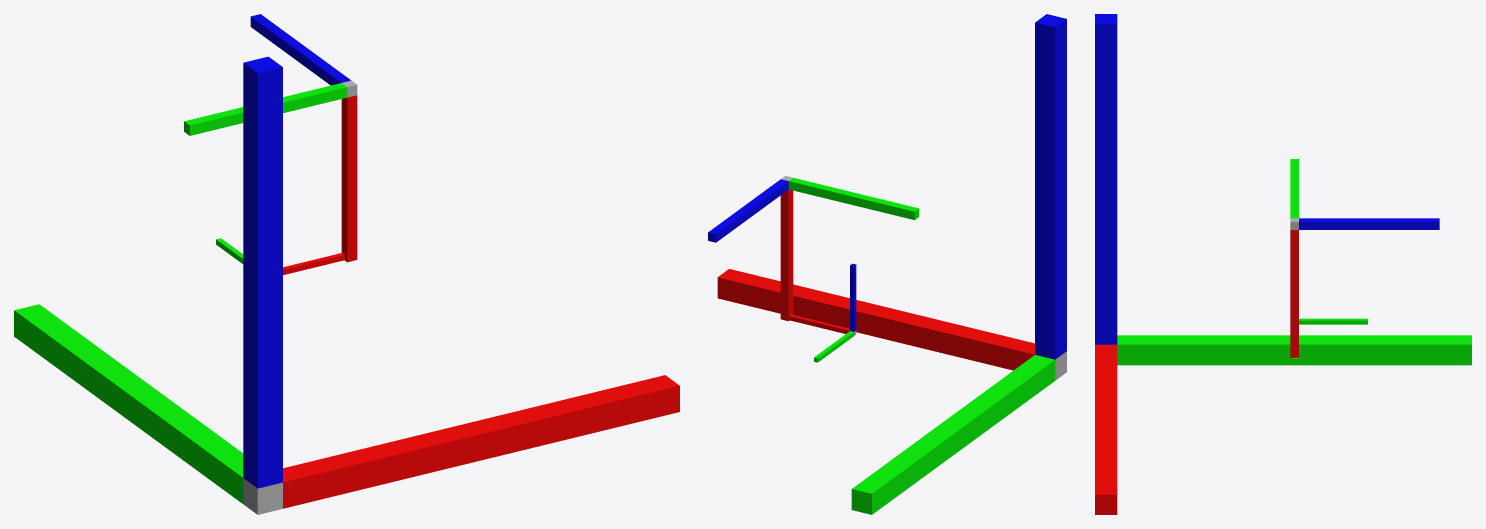
Rendered from simple_003_Parenting_00.dae.
3 views of the same model, side by side, from view 1: azimuth 30°, elevation 25°; view 2: azimuth 150°, elevation 25°; view 3: azimuth 270°, elevation 25° (orthographic). The views are drawn at different scales.
Parts seen in each view (by area): view 1: pCube2 (×2), pCube3; view 2: pCube2 (×2), pCube3; view 3: pCube2 (×2), pCube3.
Part boxes in pixels (x1=…): pCube2 (×2): x1=14, y1=14, x2=679, y2=514; pCube3: x1=216, y1=238, x2=344, y2=275; pCube2 (×2): x1=708, y1=14, x2=1066, y2=514; pCube3: x1=789, y1=263, x2=856, y2=362; pCube2 (×2): x1=1095, y1=14, x2=1471, y2=514; pCube3: x1=1299, y1=318, x2=1367, y2=324.
Bounding box in the file's own units: 8.25 × 8.25 × 8.25.
